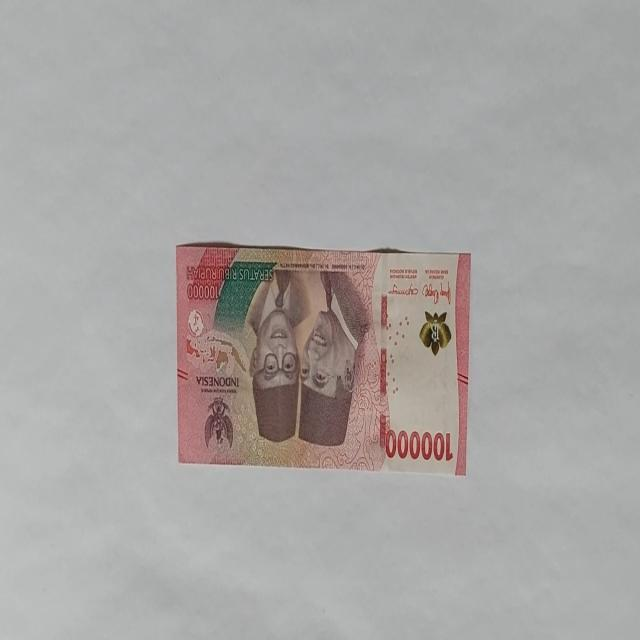seratus ribu rupiah: (175, 241, 470, 474)
